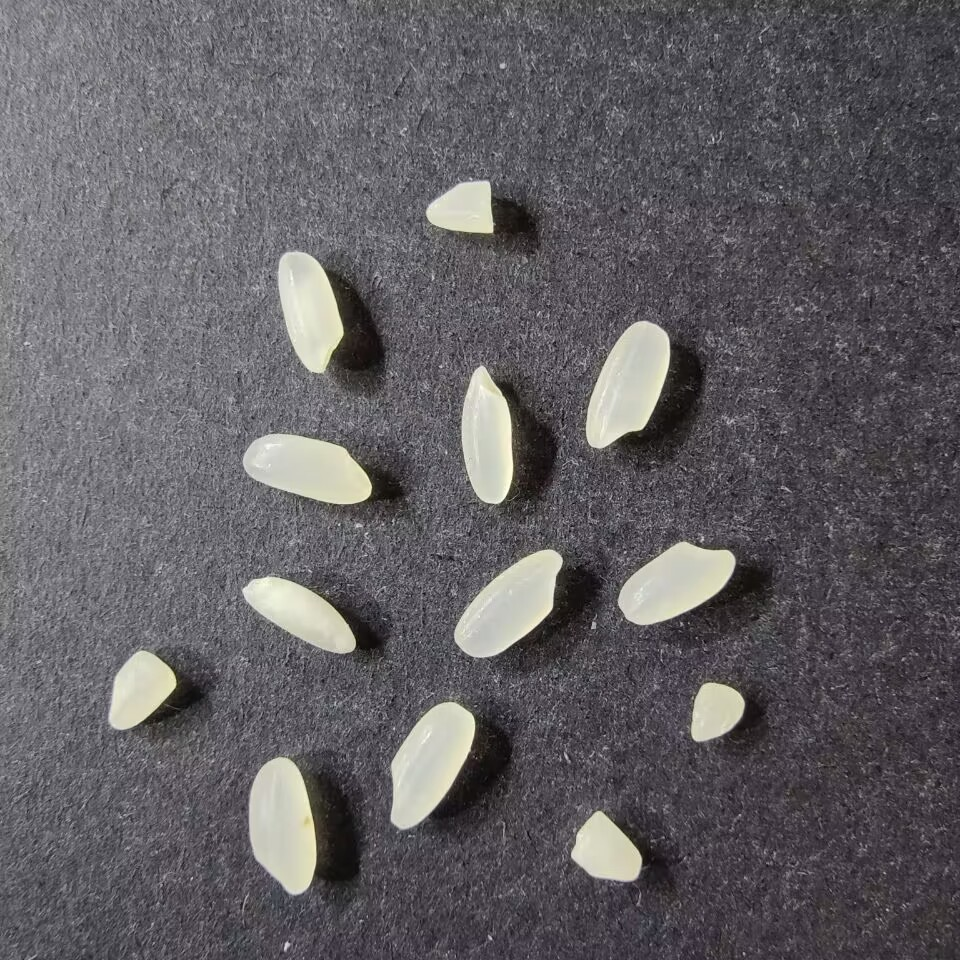broken: (107, 650, 177, 731), (569, 809, 642, 882), (425, 179, 494, 234), (691, 681, 745, 744)
rice: (453, 548, 562, 657), (583, 320, 670, 448), (388, 701, 475, 829), (247, 756, 317, 896), (617, 542, 735, 625), (241, 433, 371, 504), (241, 576, 357, 653), (276, 251, 344, 374), (460, 365, 513, 503)
